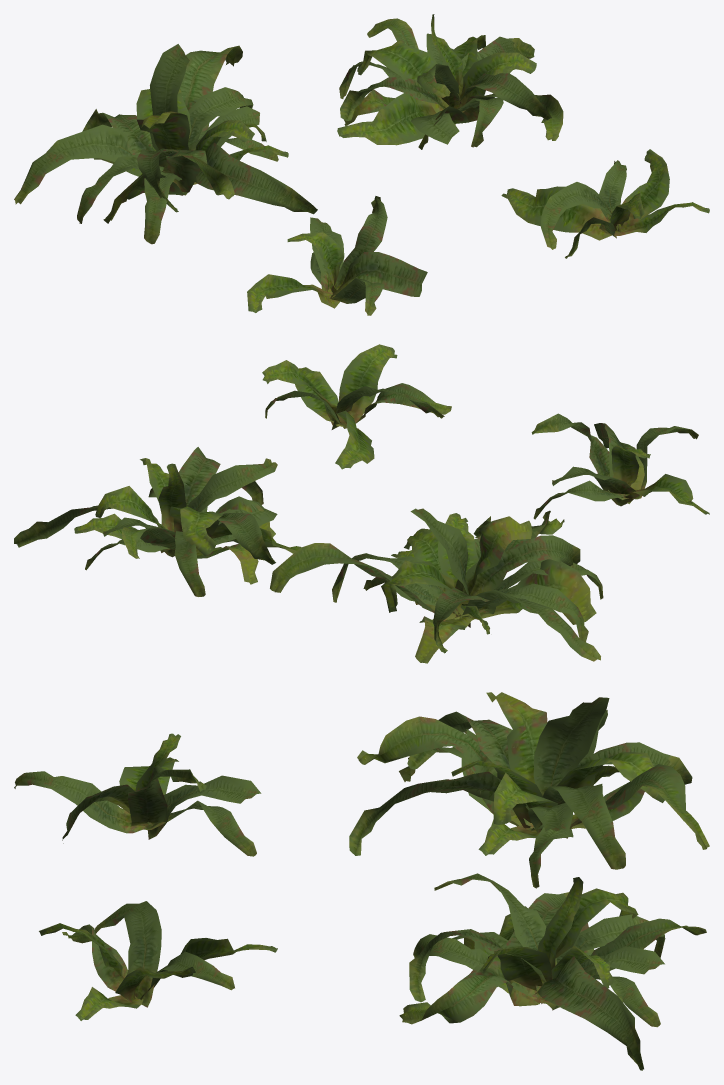
Rendered from fern_02.glb.
3 views of the same model, one above another, from view 1: azimuth 30°, elevation 25°; view 2: azimuth 150°, elevation 25°; view 3: azimuth 270°, elevation 25° (orthographic). The views are drawn at different scales.
Visible parts, largest first — view 1: fern_02_b; view 2: fern_02_b; view 3: fern_02_b.
Part boxes in pixels (bbox=[...]): fern_02_b: bbox=[14, 14, 709, 315]; fern_02_b: bbox=[14, 344, 709, 663]; fern_02_b: bbox=[14, 692, 709, 1070].
Bounding box in the file's own units: 1.97 × 0.4277 × 1.72.
Materials: 1 (1 with a texture image).
